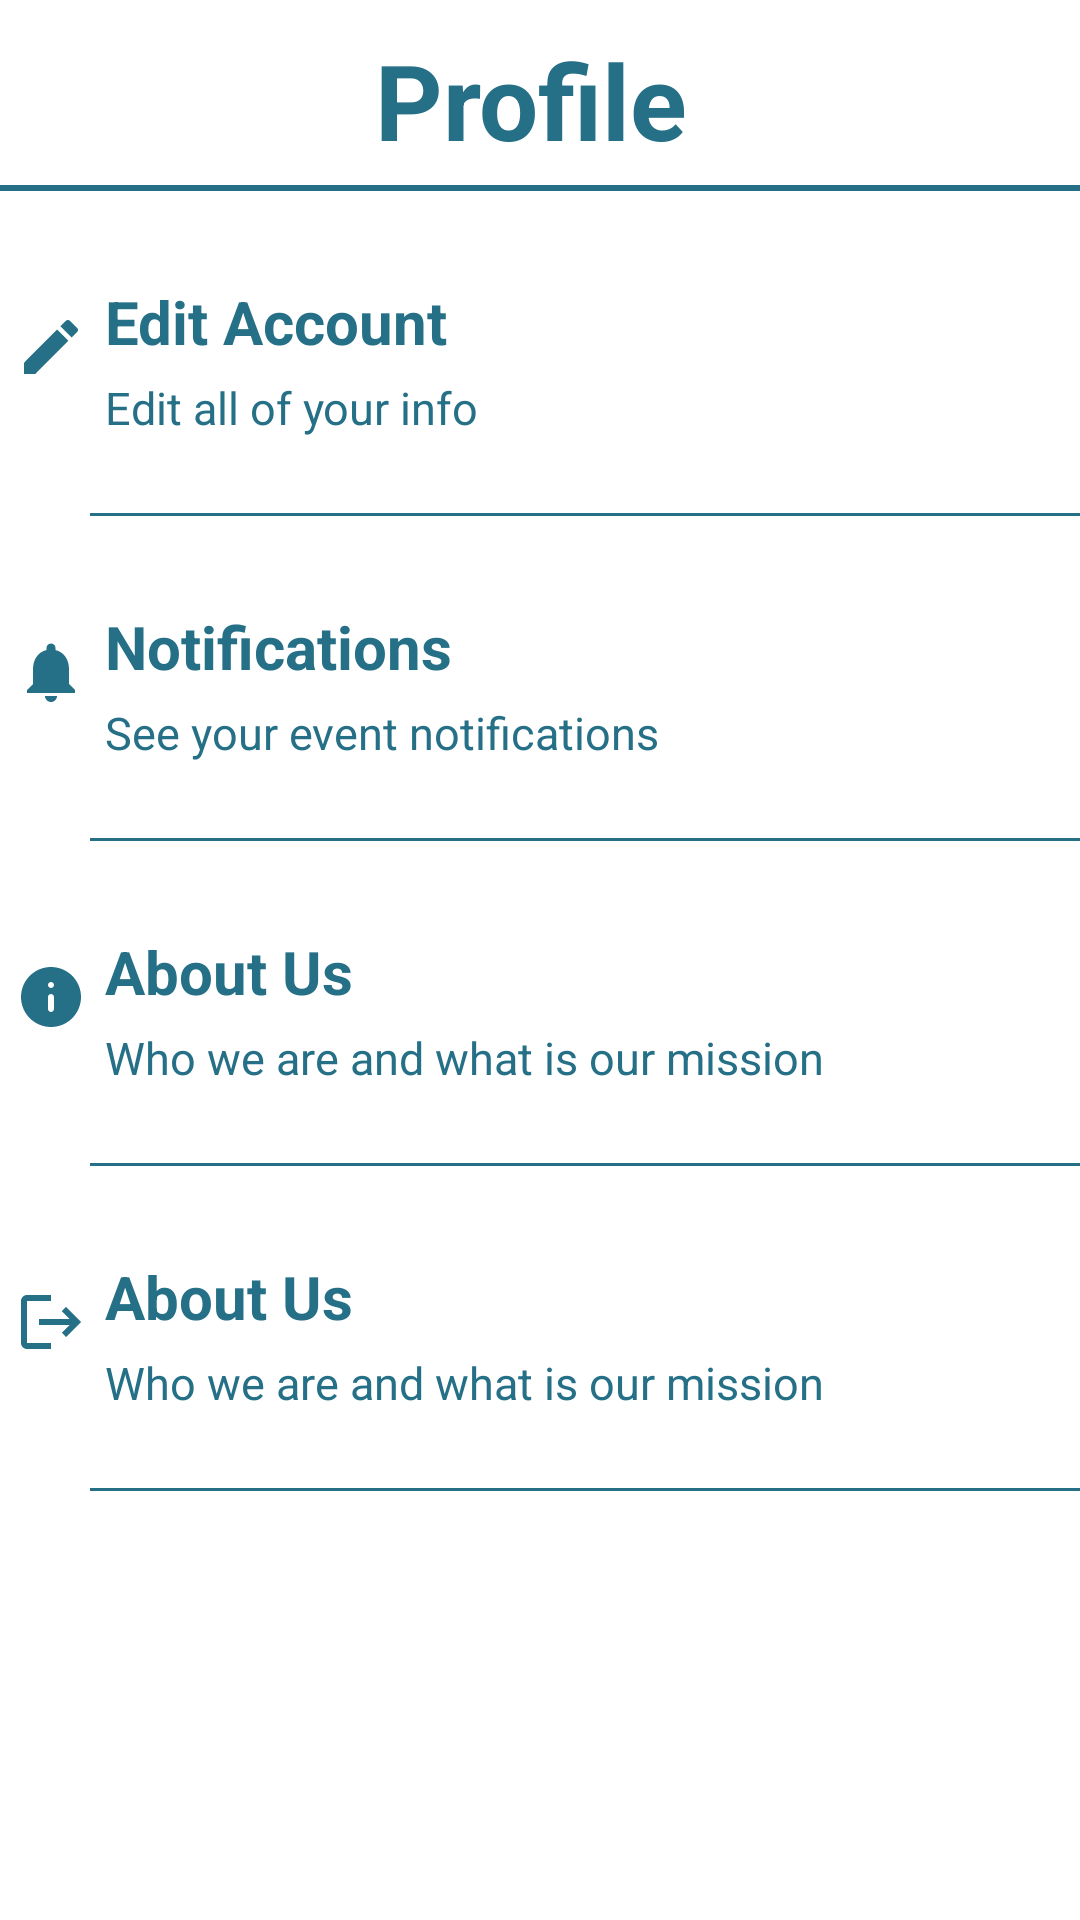

Where icons sit on this 1080 × 1920 app screen, as (x1, y1, x2, y2):
log out: (21, 1295, 81, 1349)
